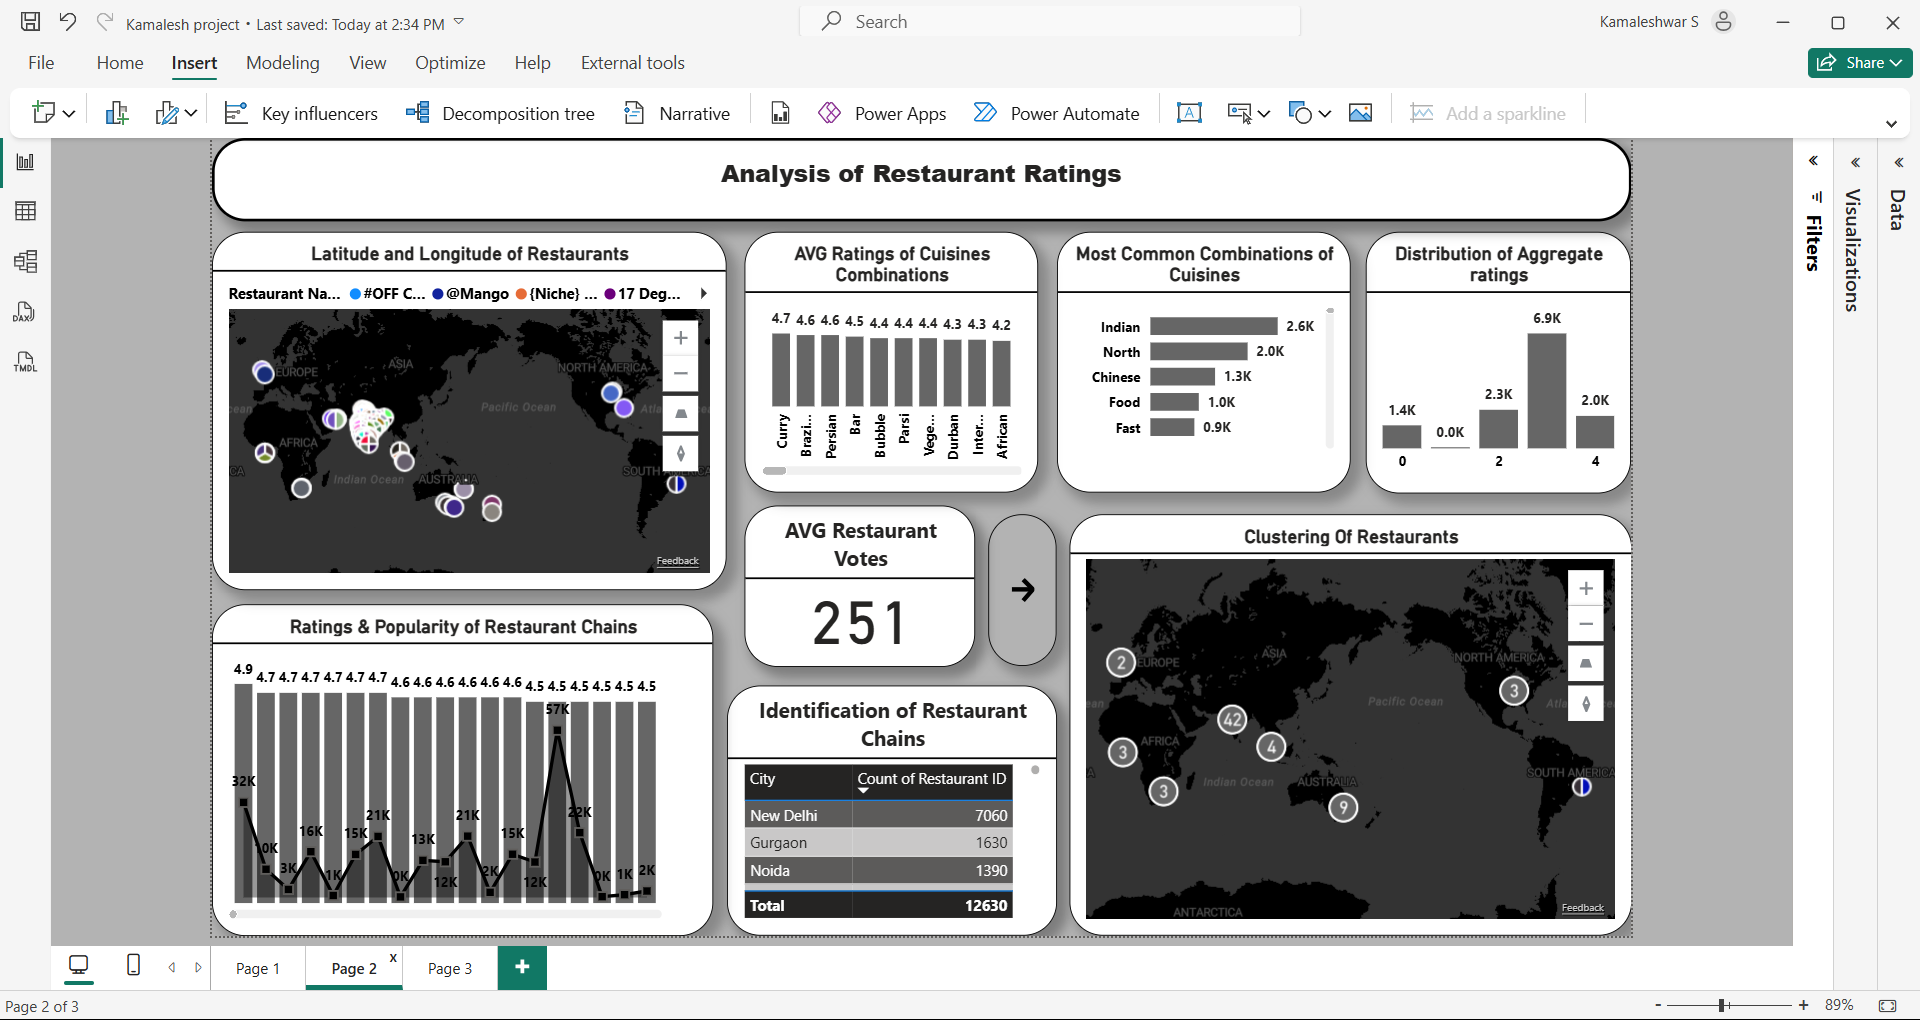

This screenshot's page, from the dashboard's own definition file:
{"tool":"powerbi","page":{"name":"Page 2","canvas":[1280,720],"ordinal":1},"visuals":[{"type":"clusteredColumnChart","title":"Distribution of Aggregate ratings","fields":{"Y":["CountNonNull(Dataset.Restaurant ID)"],"Category":["Dataset.Aggregate rating (bins)"]},"box":[1040.5,84.5,239.3,235.7],"z":0},{"type":"textbox","box":[0,0,1280.2,75.6],"z":1000},{"type":"cardVisual","title":"AVG Restaurant Votes","fields":{"Data":["Avg(Dataset.Votes)"]},"box":[480.2,331.4,208.1,145.3],"z":2000},{"type":"barChart","title":"Most Common Combinations of Cuisines","fields":{"Category":["Dataset.Cuisines"],"Y":["CountNonNull(Dataset.Restaurant ID)"]},"box":[761.6,84.9,265.1,234.9],"z":3000},{"type":"columnChart","title":"AVG Ratings of Cuisines Combinations","fields":{"Category":["Dataset.Cuisines"],"Y":["Avg(Dataset.Aggregate rating)"]},"box":[480.2,84.9,265.1,234.9],"z":4000},{"type":"tableEx","title":"Identification of Restaurant Chains","fields":{"Values":["Dataset.City","CountNonNull(Dataset.Restaurant ID)"]},"box":[464,494.2,297.7,225.6],"z":5000},{"type":"lineClusteredColumnComboChart","title":"Ratings & Popularity of Restaurant Chains","fields":{"Category":["Dataset.Restaurant Name"],"Y":["Avg(Dataset.Aggregate rating)"],"Y2":["Sum(Dataset.Votes)"]},"box":[0,420.9,452.3,298.8],"z":6000},{"type":"actionButton","box":[700,339.3,61.9,136.9],"z":7000},{"type":"azureMap","title":"Latitude and Longitude of Restaurants","fields":{"Category":["Dataset.City"],"Y":["Dataset.Latitude"],"X":["Dataset.Longitude"],"Series":["Dataset.Restaurant Name"]},"box":[0,84.9,464,323.3],"z":8000},{"type":"azureMap","title":"Clustering Of Restaurants","fields":{"Y":["Dataset.Latitude"],"X":["Dataset.Longitude"],"Category":["Dataset.City"],"Series":["Dataset.Restaurant Name"]},"box":[773.3,339.5,507,380.2],"z":9000}]}

Visuals, with their boxes on the page's 1280x720 design canvas (x1, y1, x2, y2). These are canvas units, not pixel positions in the 1920x1020 screenshot, which may show the page scaled, cropped or inside an application window:
"Distribution of Aggregate ratings" clusteredColumnChart: [1040,84,1280,320]
textbox: [0,0,1280,76]
"AVG Restaurant Votes" cardVisual: [480,331,688,477]
"Most Common Combinations of Cuisines" barChart: [762,85,1027,320]
"AVG Ratings of Cuisines Combinations" columnChart: [480,85,745,320]
"Identification of Restaurant Chains" tableEx: [464,494,762,720]
"Ratings & Popularity of Restaurant Chains" lineClusteredColumnComboChart: [0,421,452,720]
actionButton: [700,339,762,476]
"Latitude and Longitude of Restaurants" azureMap: [0,85,464,408]
"Clustering Of Restaurants" azureMap: [773,340,1280,720]
